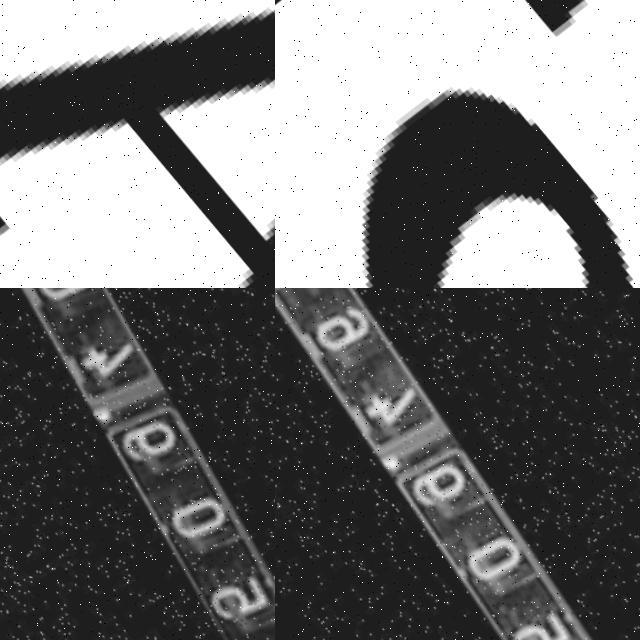0: (149, 472, 238, 555), (448, 515, 532, 594)
4: (58, 309, 153, 399), (345, 358, 435, 443)
5: (186, 552, 274, 635), (491, 592, 573, 640)
6: (275, 0, 640, 288), (299, 288, 389, 370), (19, 288, 115, 323)
9: (102, 393, 194, 480), (394, 440, 481, 522)
A: (0, 0, 275, 288)
